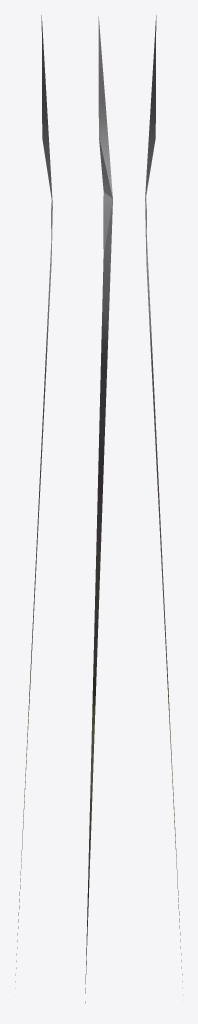
The picture shows the model from 3 angles, left to right: view 1: azimuth 90°, elevation 25°; view 2: azimuth 150°, elevation 25°; view 3: azimuth 270°, elevation 25°; orthographic projection.
Parts seen in each view (by area): view 1: 0_1_2_2_3_1; view 2: 0_1_2_2_3_1; view 3: 0_1_2_2_3_1.
Part boxes in pixels (bbox=[...]): 0_1_2_2_3_1: bbox=[15, 15, 52, 988]; 0_1_2_2_3_1: bbox=[85, 16, 112, 1003]; 0_1_2_2_3_1: bbox=[145, 15, 182, 988].
Size of the model in its own units: 0.3828 by 40.54 by 1.43.
1 material, 1 textured.
